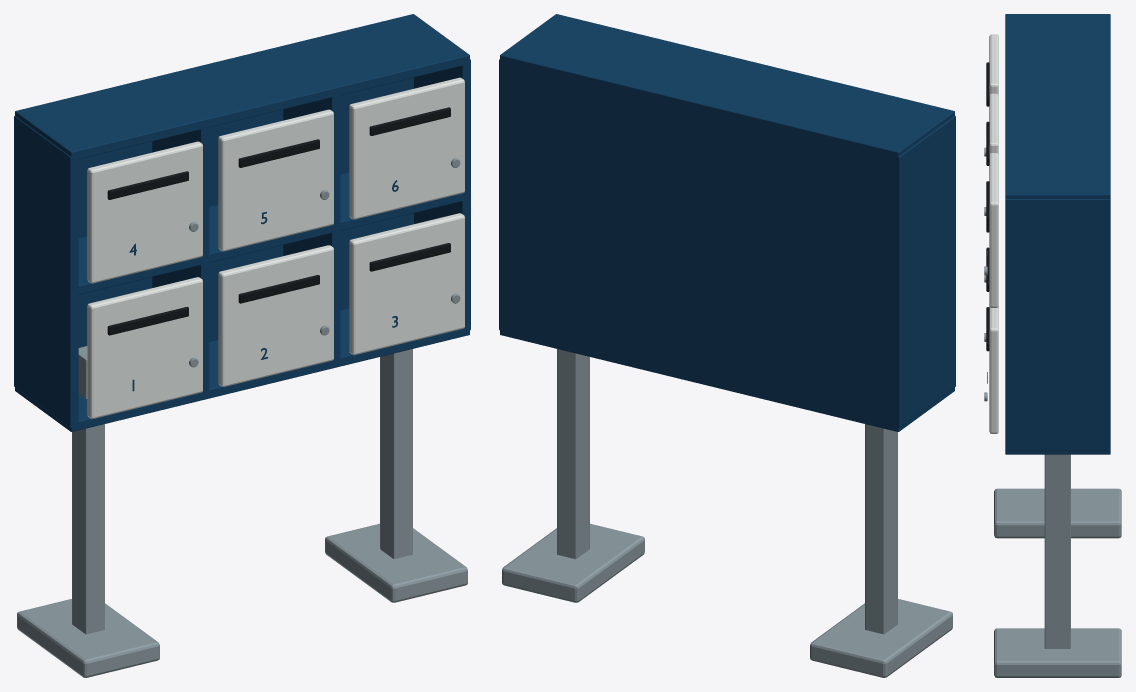
3 renders of one model, left to right at view 1: azimuth 30°, elevation 25°; view 2: azimuth 150°, elevation 25°; view 3: azimuth 270°, elevation 25°, orthographic. The views are drawn at different scales.
Parts seen in each view (by area): view 1: BODY_Shelf, BODY_Divider.001, DOOR_Panel, DOOR_Panel.004, DOOR_Panel.005, DOOR_Panel.002, DOOR_Panel.003, DOOR_Panel.001, BODY_Back, STAND_Post, STAND_Post.001, FOOT.001 (+12 smaller); view 2: BODY_Back, BODY_Shelf, BODY_Divider.001, STAND_Post, STAND_Post.001, FOOT.001, FOOT, BODY_Shelf.001, BODY_Divider, BODY_Divider.002, BODY_Shelf.002, BODY_Divider.003; view 3: BODY_Divider, BODY_Shelf, FOOT.001, STAND_Post.001, FOOT, DOOR_Panel.005, DOOR_Panel.002, DOOR_Panel.003, DOOR_Panel.004, BODY_Shelf.001.
Boxes of the visible parts, box(x1,y1,x2,y2) form: BODY_Shelf: box(15, 14, 469, 160); BODY_Divider.001: box(14, 116, 78, 427); DOOR_Panel: box(87, 277, 202, 418); DOOR_Panel.004: box(218, 109, 333, 251); DOOR_Panel.005: box(349, 77, 464, 219); DOOR_Panel.002: box(349, 213, 464, 355); DOOR_Panel.003: box(87, 141, 202, 283); DOOR_Panel.001: box(218, 245, 333, 386); BODY_Back: box(78, 77, 413, 347); STAND_Post: box(72, 346, 104, 634); STAND_Post.001: box(380, 349, 412, 559); FOOT.001: box(325, 523, 467, 602); BODY_Back: box(504, 61, 894, 425); BODY_Shelf: box(500, 14, 954, 157); BODY_Divider.001: box(891, 116, 955, 427); STAND_Post: box(865, 424, 897, 634); STAND_Post.001: box(557, 349, 589, 559); FOOT.001: box(502, 523, 644, 602); FOOT: box(810, 599, 952, 677); BODY_Shelf.001: box(500, 327, 954, 431); BODY_Divider: box(499, 59, 506, 331); BODY_Divider.002: box(761, 124, 768, 395); BODY_Shelf.002: box(500, 191, 890, 292); BODY_Divider.003: box(630, 92, 637, 357); BODY_Divider: box(1005, 199, 1110, 450); BODY_Shelf: box(1005, 14, 1110, 198); FOOT.001: box(994, 628, 1121, 677); STAND_Post.001: box(1044, 454, 1070, 648); FOOT: box(994, 488, 1121, 538); DOOR_Panel.005: box(989, 153, 998, 307); DOOR_Panel.002: box(989, 306, 998, 433); DOOR_Panel.003: box(989, 34, 998, 95); DOOR_Panel.004: box(989, 93, 998, 154); BODY_Shelf.001: box(1005, 450, 1110, 454).
Size of the model in its own units: 1.15 by 1.43 by 0.3665.
